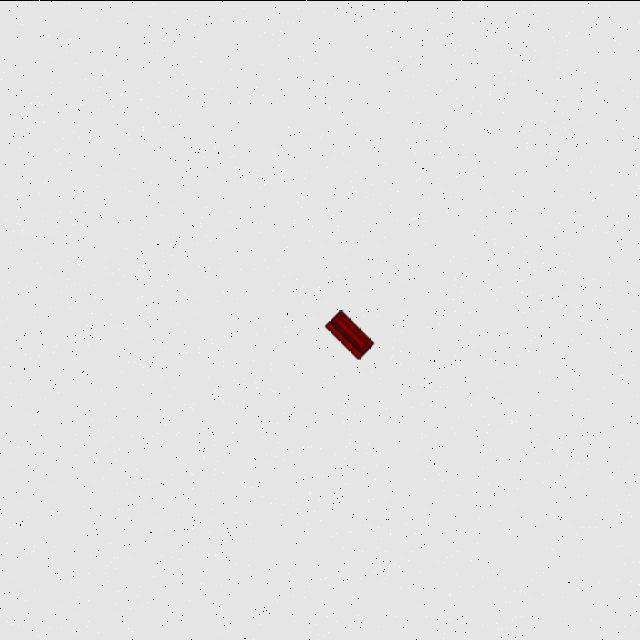3069b: (322, 306, 378, 362)
